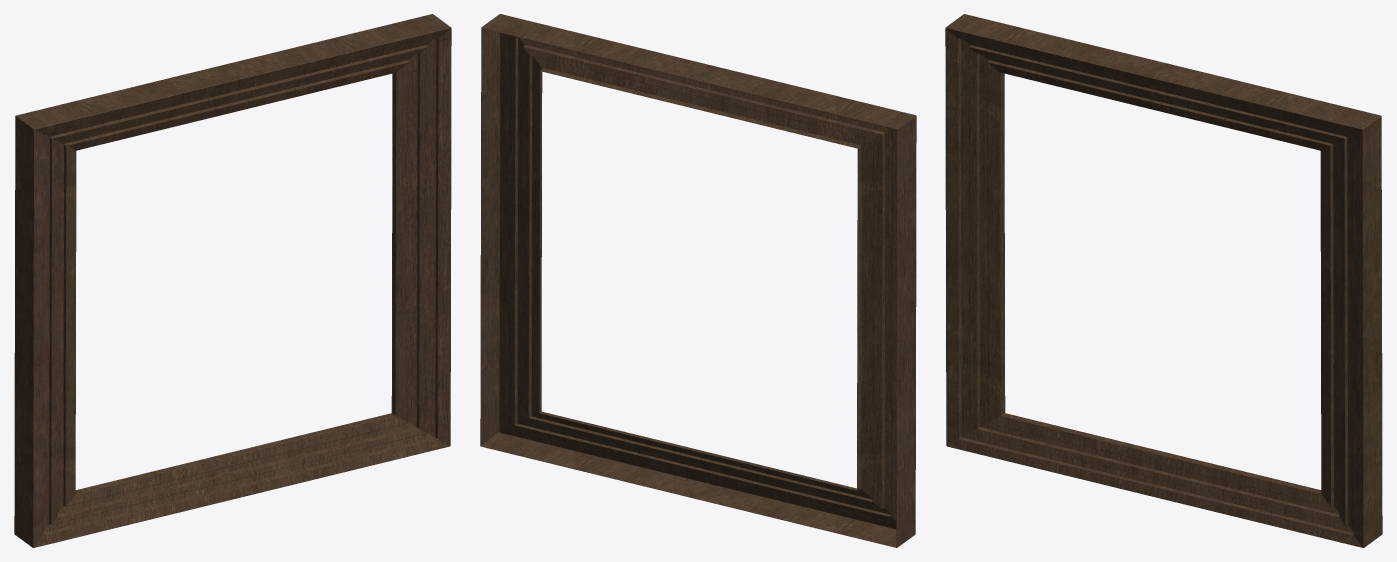
The model's file is frame4.gltf.
3 views of the same model, side by side, from view 1: azimuth 30°, elevation 25°; view 2: azimuth 150°, elevation 25°; view 3: azimuth 330°, elevation 25° (orthographic).
Visible parts, largest first — view 1: ClassicWoodFrame; view 2: ClassicWoodFrame; view 3: ClassicWoodFrame.
Boxes of the visible parts, x1,y1,x2,y2 form: ClassicWoodFrame: (14,14,451,547); ClassicWoodFrame: (480,14,916,547); ClassicWoodFrame: (945,14,1382,547).
Bounding box in the file's own units: 1.28 × 1.23 × 0.1051.
1 material, 1 textured.
